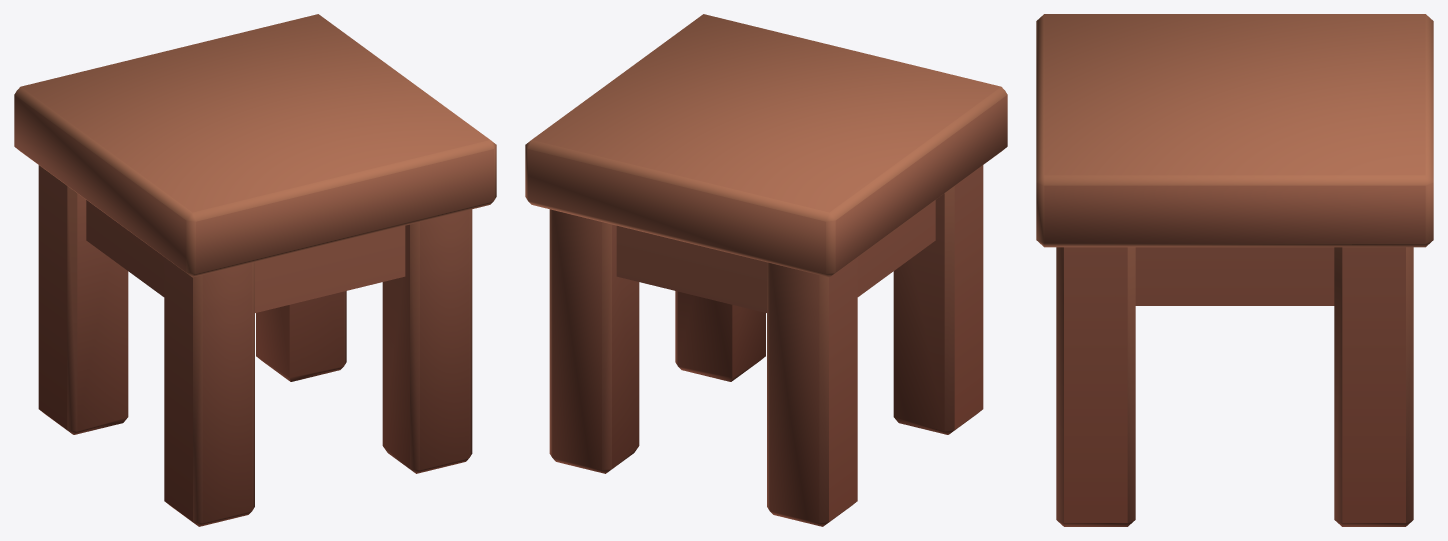
The model's file is side-table.glb.
3 views of the same model, side by side, from view 1: azimuth 30°, elevation 25°; view 2: azimuth 150°, elevation 25°; view 3: azimuth 270°, elevation 25° (orthographic). The views are drawn at different scales.
Parts seen in each view (by area): view 1: table_small; view 2: table_small; view 3: table_small.
Part boxes in pixels (left/top/right/bottom): table_small: left=14, top=14, right=496, bottom=526; table_small: left=525, top=14, right=1007, bottom=526; table_small: left=1036, top=14, right=1433, bottom=526.
Bounding box in the file's own units: 1 × 1 × 1.
Materials: 1 (1 with a texture image).
